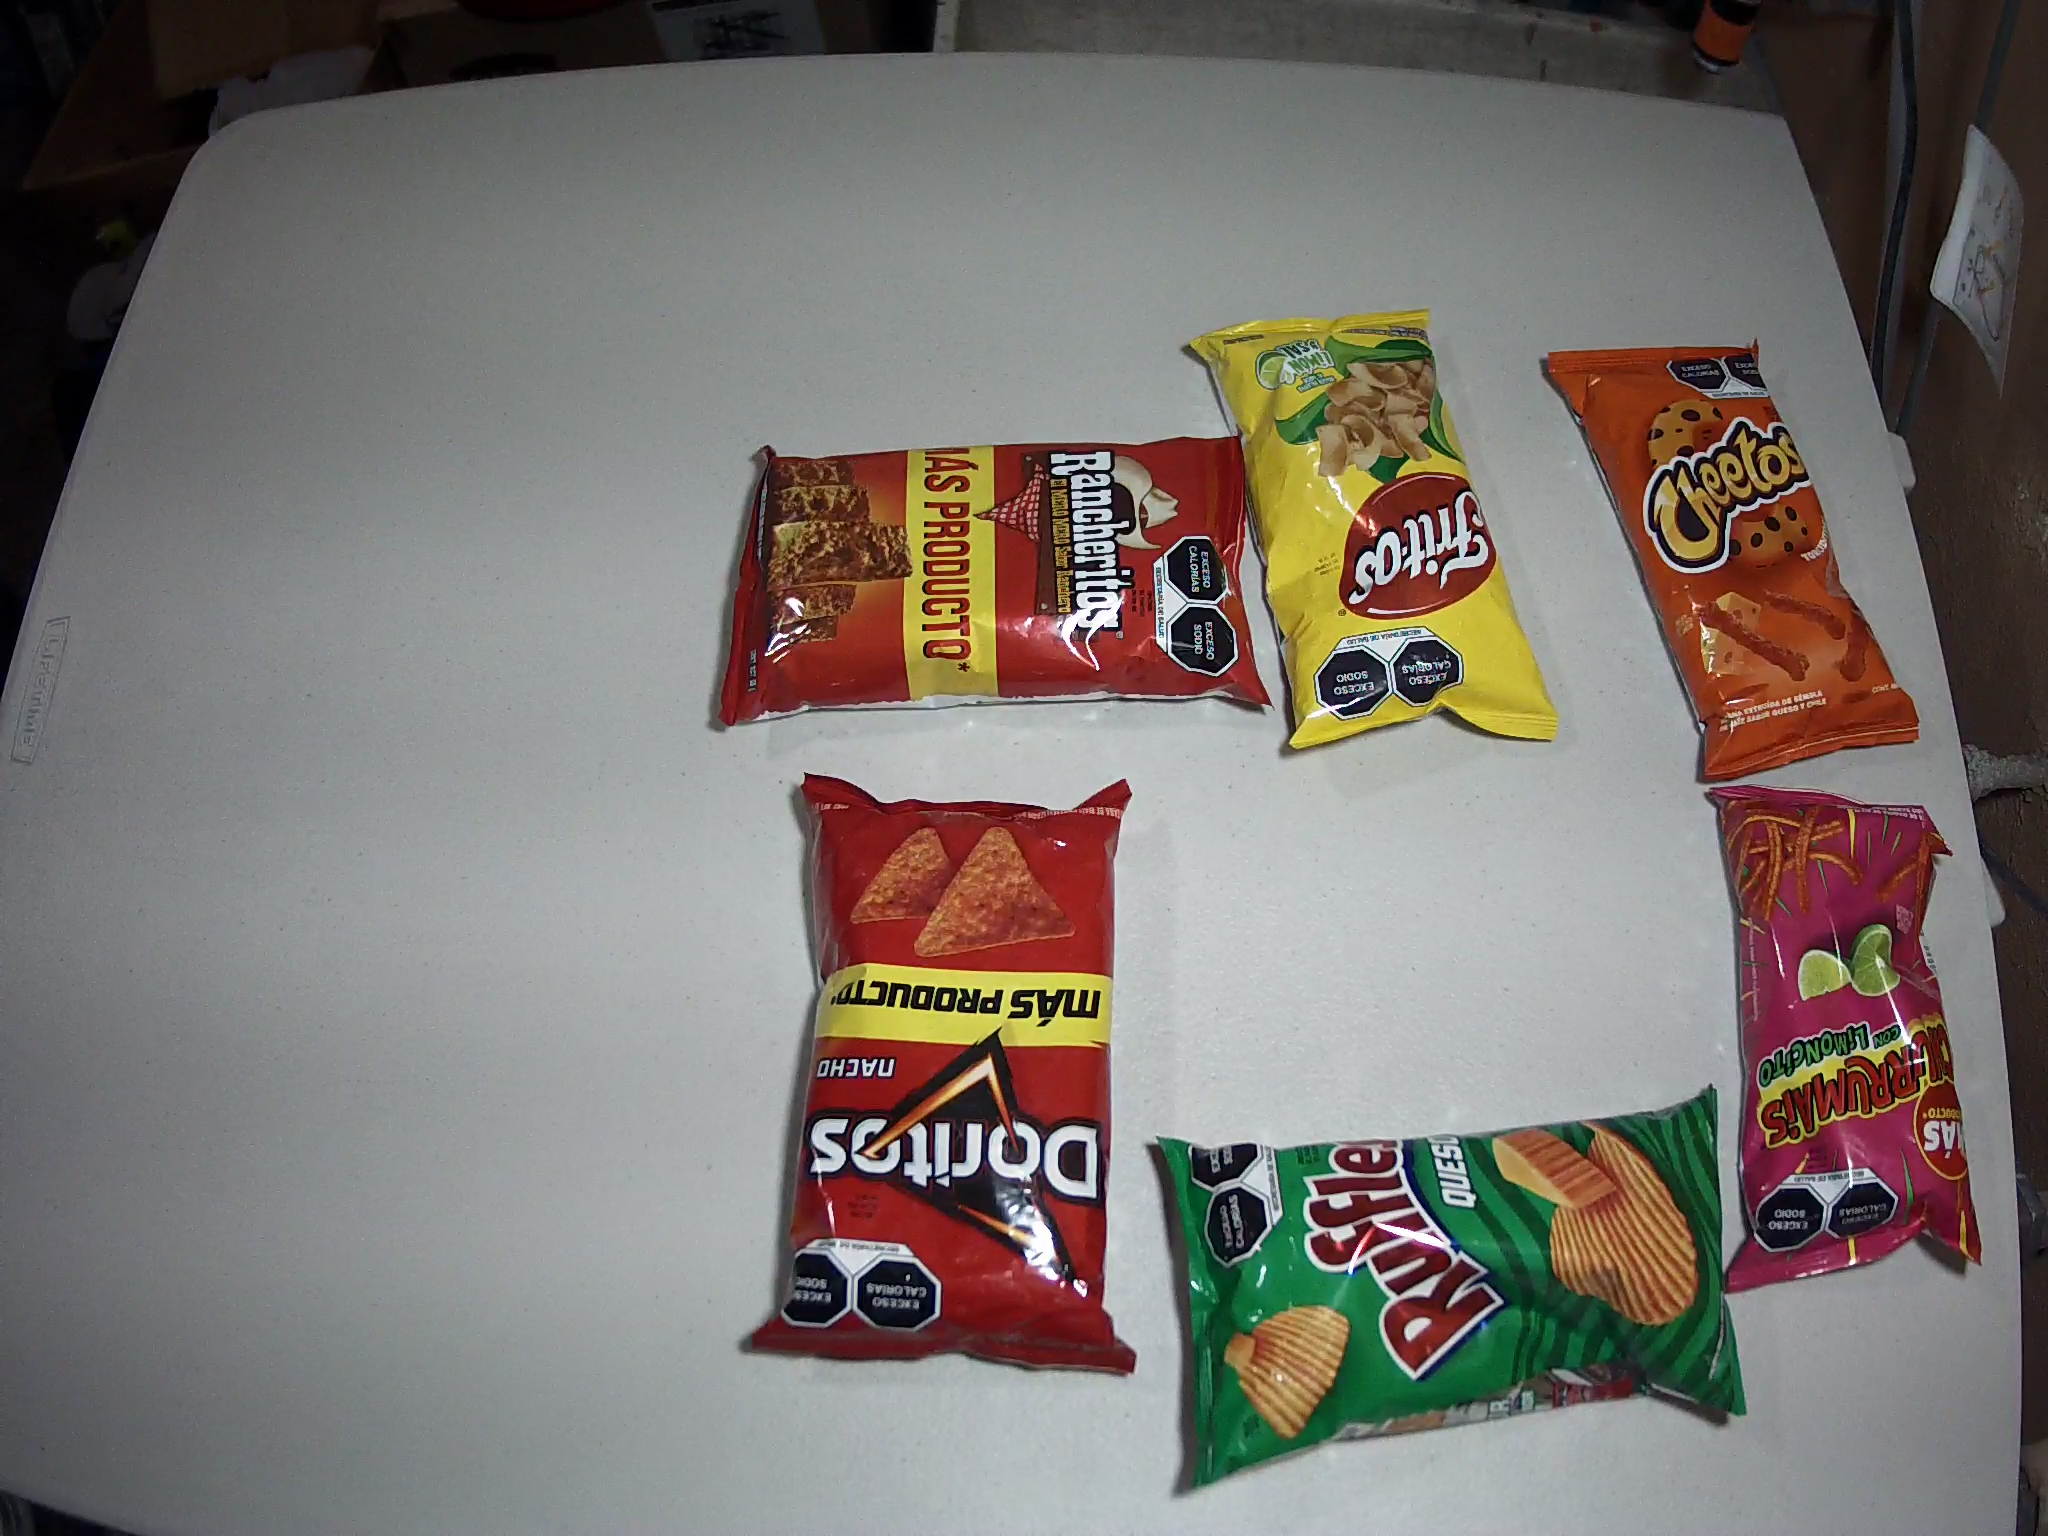CheetosTorciditos_55_F: (1545, 339, 1922, 783)
Churrumais_70_F: (1705, 783, 1983, 1292)
DoritosN_61_F: (751, 770, 1142, 1378)
FritosSalLimon_65_F: (1184, 308, 1561, 753)
Rancheritos_58_F: (718, 431, 1271, 729)
RufflesQ_48_F: (1155, 1084, 1745, 1488)
